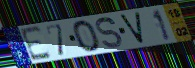1: (151, 8, 174, 42)
7: (45, 23, 66, 58)
E: (19, 25, 54, 63)
O: (72, 19, 102, 53)
S: (95, 16, 124, 50)
V: (118, 11, 146, 46)
